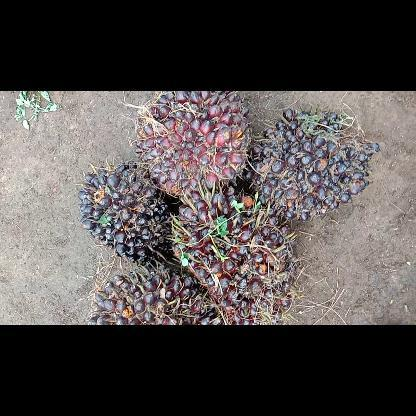TBS mentah: (165, 186, 299, 324), (243, 102, 381, 226), (132, 91, 254, 204), (74, 161, 178, 264), (86, 266, 224, 324)
